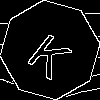K: (25, 25, 80, 81)
